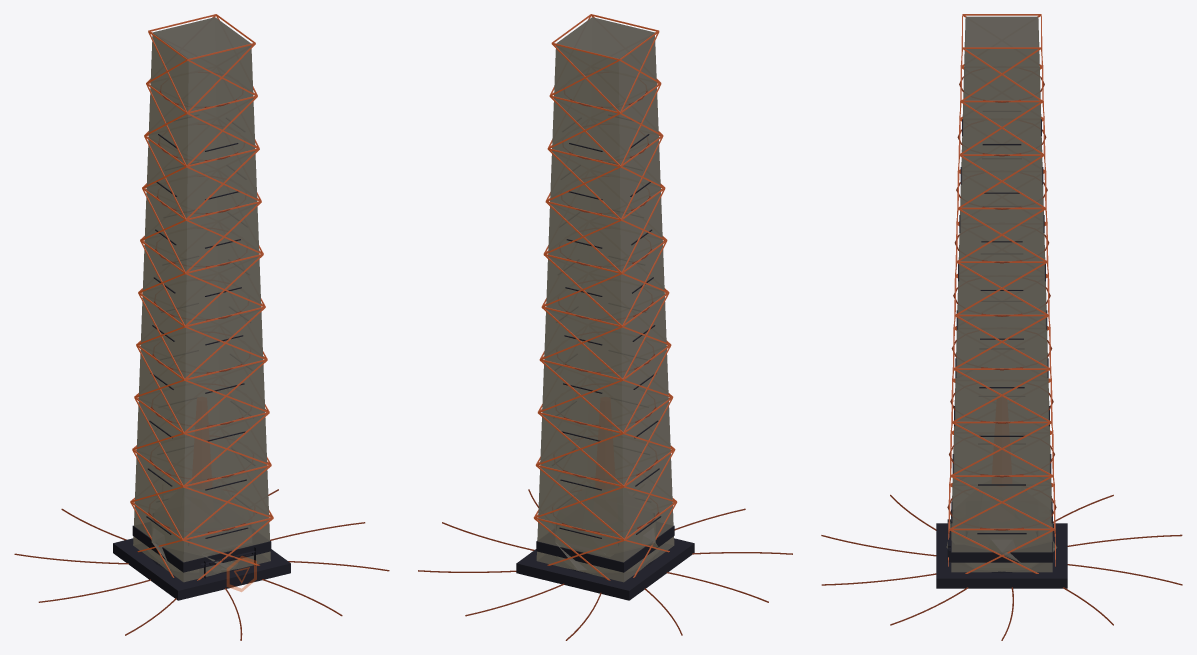
The model's file is sia-tower-ext.glb.
3 renders of one model, left to right at view 1: azimuth 30°, elevation 25°; view 2: azimuth 150°, elevation 25°; view 3: azimuth 270°, elevation 25°, orthographic.
Parts seen in each view (by area): view 1: SIA_Tower_Glass, SIA_Exoskeleton, SIA_Base_Platform, SIA_Ground_Veins, SIA_Tower_Ledges, SIA_Energy_Rings, SIA_Crown; view 2: SIA_Tower_Glass, SIA_Exoskeleton, SIA_Base_Platform, SIA_Ground_Veins, SIA_Tower_Ledges, SIA_Energy_Rings, SIA_Crown; view 3: SIA_Tower_Glass, SIA_Exoskeleton, SIA_Base_Platform, SIA_Ground_Veins, SIA_Tower_Ledges, SIA_Energy_Rings.
Boxes of the visible parts, <box> form: SIA_Tower_Glass: <box>133,17,270,582</box>; SIA_Exoskeleton: <box>130,14,273,580</box>; SIA_Base_Platform: <box>113,525,290,600</box>; SIA_Ground_Veins: <box>14,489,389,640</box>; SIA_Tower_Ledges: <box>146,134,248,538</box>; SIA_Energy_Rings: <box>148,90,245,532</box>; SIA_Crown: <box>151,527,251,572</box>; SIA_Tower_Glass: <box>536,17,674,582</box>; SIA_Exoskeleton: <box>533,14,677,580</box>; SIA_Base_Platform: <box>516,525,694,600</box>; SIA_Ground_Veins: <box>418,489,792,640</box>; SIA_Tower_Ledges: <box>559,134,661,538</box>; SIA_Energy_Rings: <box>562,90,659,532</box>; SIA_Crown: <box>555,527,658,572</box>; SIA_Tower_Glass: <box>951,16,1052,572</box>; SIA_Exoskeleton: <box>948,14,1055,573</box>; SIA_Base_Platform: <box>936,510,1067,588</box>; SIA_Ground_Veins: <box>821,494,1182,640</box>; SIA_Tower_Ledges: <box>951,119,1052,534</box>; SIA_Energy_Rings: <box>947,76,1056,530</box>.
Bounding box in the file's own units: 26.03 × 40.1 × 24.78.
